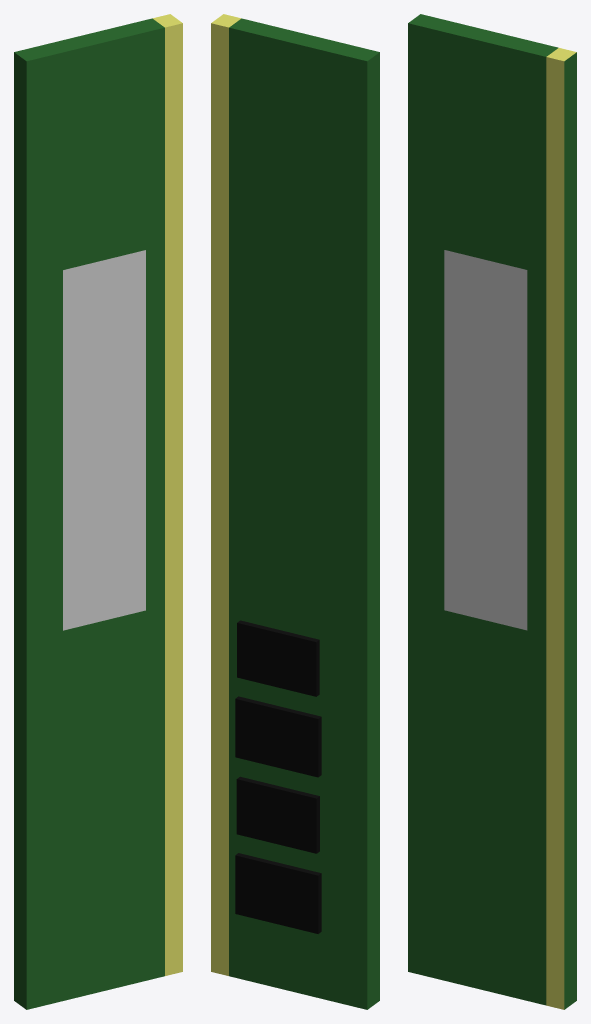
The model's file is ram.glb.
3 renders of one model, left to right at view 1: azimuth 30°, elevation 25°; view 2: azimuth 150°, elevation 25°; view 3: azimuth 330°, elevation 25°, orthographic.
Visible parts, largest first — view 1: ram; view 2: ram; view 3: ram.
Boxes of the visible parts, x1,y1,x2,y2 form: ram: (14, 14, 182, 1009); ram: (211, 14, 379, 1009); ram: (408, 14, 576, 1009).
Bounding box in the file's own units: 0.0678 × 0.3934 × 0.012.
